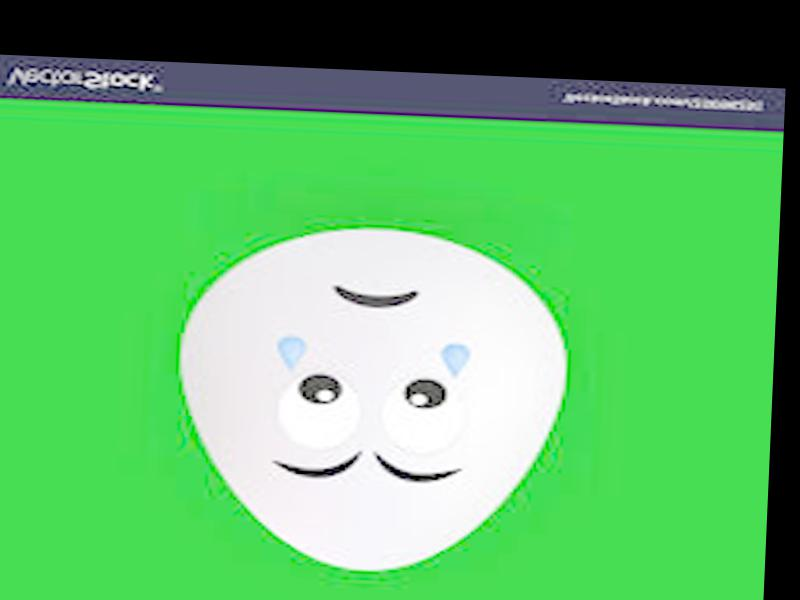Eggs: (168, 221, 568, 575)
